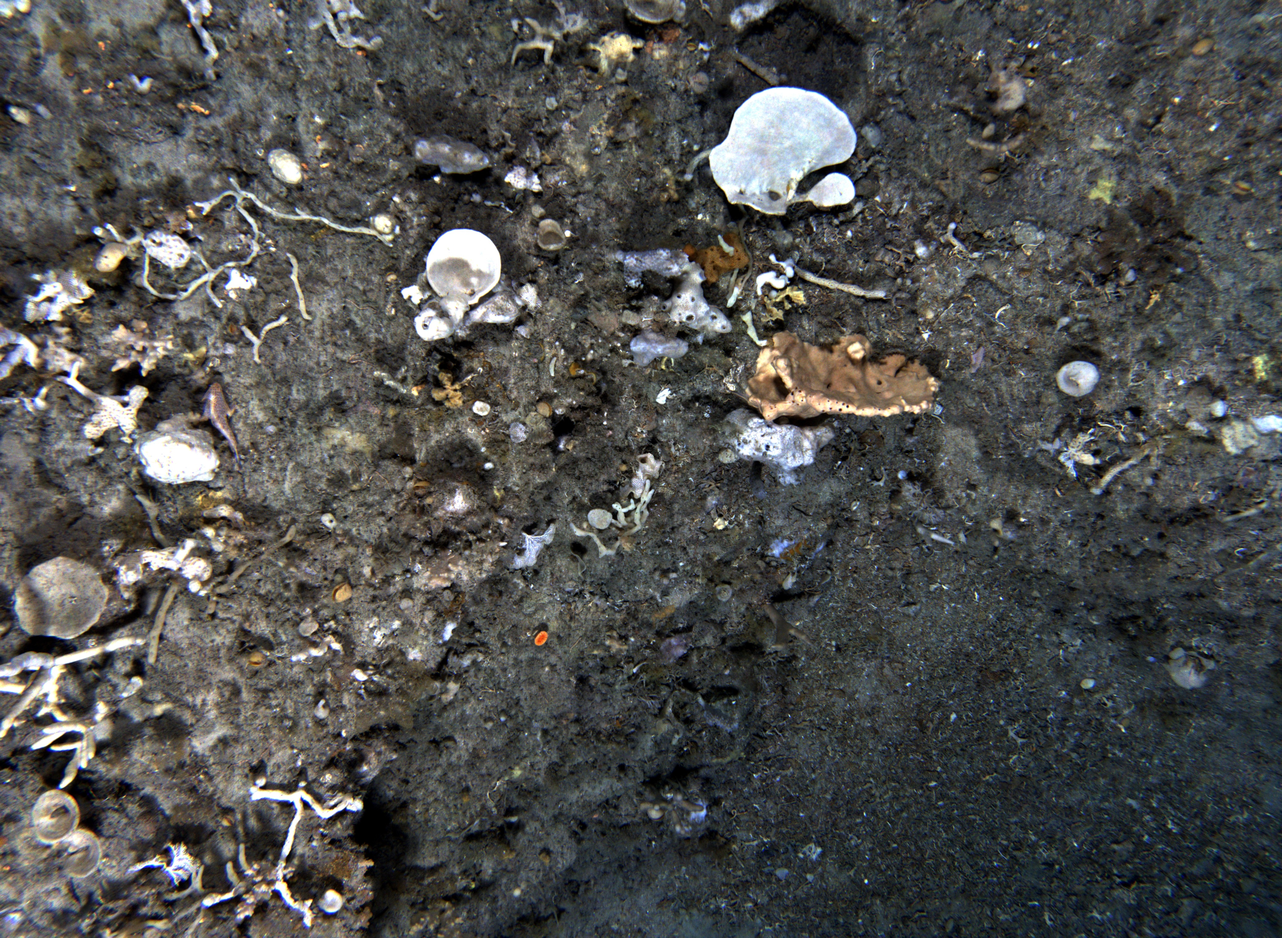Brachionichthyidae: (197, 381, 241, 463)
